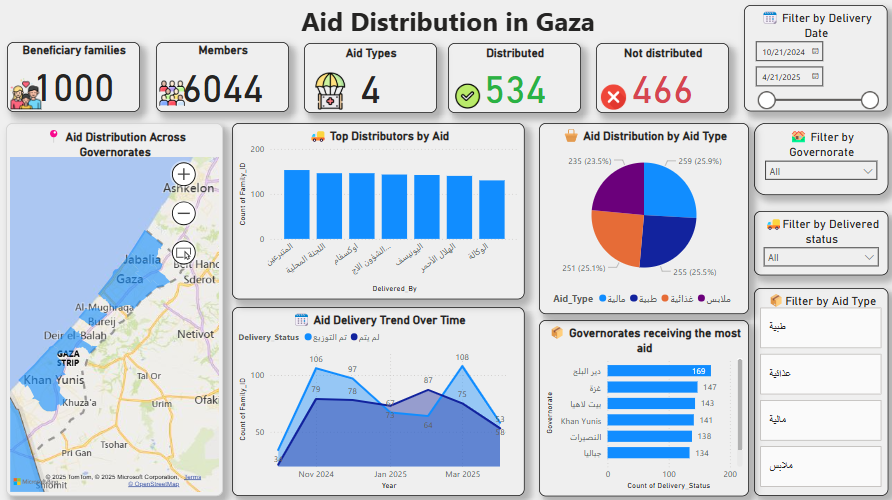

What the dashboard file says about the page in this screenshot:
{"tool":"powerbi","page":{"name":"Home","canvas":[1280,720],"ordinal":0},"visuals":[{"type":"card","title":"Members","fields":{"Values":["Sheet1.Members"]},"box":[223,61,189.8,99.7],"z":0},{"type":"card","title":"Beneficiary families","fields":{"Values":["Sheet1.Family_ID"]},"box":[9.7,61,190,99.7],"z":1000},{"type":"card","title":"Not distributed","fields":{"Values":["Sheet1.Delivery_Status"]},"box":[851.9,62.3,190,99.7],"z":2000},{"type":"card","title":"Distributed","fields":{"Values":["Sheet1.Delivery_Status"]},"box":[640,62.3,190,99.7],"z":3000},{"type":"card","title":"Aid Types","fields":{"Values":["Sheet1.Aid_Type"]},"box":[433.6,62.3,189.8,99.7],"z":4000},{"type":"filledMap","title":"📍 Aid Distribution Across Governorates","fields":{"Category":["Sheet1.Governorate"]},"box":[8.3,176.7,310,533.3],"z":5000},{"type":"lineChart","title":"🗓️ Aid Delivery Trend Over Time","fields":{"Y":["Sheet1.Family_ID"],"Category":["Sheet1.Delivery_Date.Variation.Date Hierarchy.Year","Sheet1.Delivery_Date.Variation.Date Hierarchy.Quarter","Sheet1.Delivery_Date.Variation.Date Hierarchy.Month"],"Series":["Sheet1.Delivery_Status"]},"box":[331.7,440,418.3,270],"z":6000},{"type":"pieChart","title":"🧺 Aid Distribution by Aid Type","fields":{"Category":["Sheet1.Aid_Type"],"Y":["Sheet1.Family_ID"]},"box":[770,176.7,300,273.3],"z":7000},{"type":"columnChart","title":"🚚 Top Distributors by Aid ","fields":{"Category":["Sheet1.Delivered_By"],"Y":["Sheet1.Family_ID"]},"box":[331.7,176.7,418.3,251.7],"z":8000},{"type":"barChart","title":"📦 Governorates receiving the most aid","fields":{"Category":["Sheet1.Governorate","Sheet1.Family_ID"],"Y":["Sheet1.Delivery_Status"]},"box":[770,458.3,300,251.7],"z":9000},{"type":"slicer","title":"🏘️ Filter by Governorate","fields":{"Values":["Sheet1.Governorate"]},"box":[1076.7,176.7,191.7,103.3],"z":10000},{"type":"slicer","title":"🗓️ Filter by Delivery Date","fields":{"Values":["Sheet1.Delivery_Date"]},"box":[1063.3,8.3,205,151.7],"z":11000},{"type":"textbox","box":[0,0,1280,61.7],"z":12000},{"type":"image","box":[10,108.6,54.3,54.3],"z":13000},{"type":"image","box":[222.9,108.6,45.7,52.9],"z":14000},{"type":"image","box":[434.3,100,75.7,62.9],"z":15000},{"type":"image","box":[640,115.7,55.7,45.7],"z":16000},{"type":"image","box":[851.4,117.1,50,45.7],"z":17000},{"type":"slicer","title":"🚚Filter by Delivered status","fields":{"Values":["Sheet1.Delivery_Status"]},"box":[1076.7,303.3,191.7,91.7],"z":18000},{"type":"advancedSlicerVisual","title":"📦Filter by Aid Type","fields":{"Values":["Sheet1.Aid_Type"]},"box":[1076.7,413.3,191.7,296.7],"z":19000}]}

Visuals, with their boxes in screenshot pixels (x1, y1, x2, y2), scaled from the page's 1280x720 canvas onto the 892x500 screenshot:
"Members" card: select_region(155, 42, 288, 112)
"Beneficiary families" card: select_region(7, 42, 139, 112)
"Not distributed" card: select_region(594, 43, 726, 112)
"Distributed" card: select_region(446, 43, 578, 112)
"Aid Types" card: select_region(302, 43, 434, 112)
"📍 Aid Distribution Across Governorates" filledMap: select_region(6, 123, 222, 493)
"🗓️ Aid Delivery Trend Over Time" lineChart: select_region(231, 306, 523, 493)
"🧺 Aid Distribution by Aid Type" pieChart: select_region(537, 123, 746, 312)
"🚚 Top Distributors by Aid " columnChart: select_region(231, 123, 523, 298)
"📦 Governorates receiving the most aid" barChart: select_region(537, 318, 746, 493)
"🏘️ Filter by Governorate" slicer: select_region(750, 123, 884, 194)
"🗓️ Filter by Delivery Date" slicer: select_region(741, 6, 884, 111)
textbox: select_region(0, 0, 891, 43)
image: select_region(7, 75, 45, 113)
image: select_region(155, 75, 187, 112)
image: select_region(303, 69, 355, 113)
image: select_region(446, 80, 485, 112)
image: select_region(593, 81, 628, 113)
"🚚Filter by Delivered status" slicer: select_region(750, 211, 884, 274)
"📦Filter by Aid Type" advancedSlicerVisual: select_region(750, 287, 884, 493)
